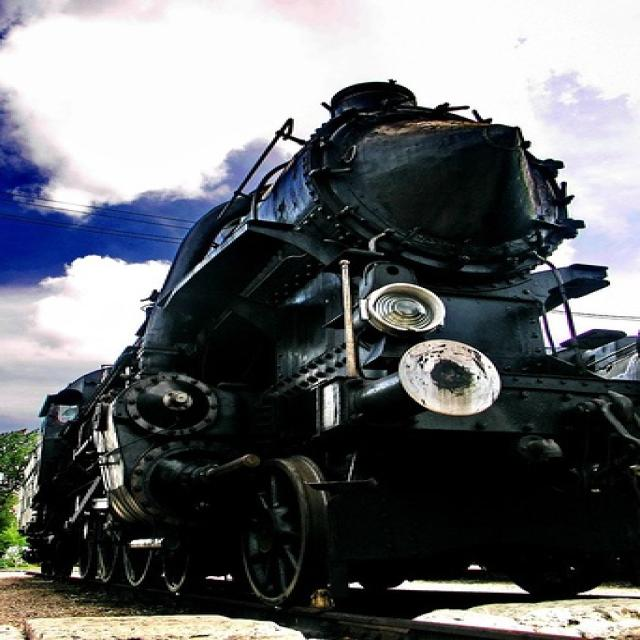train: (24, 76, 638, 602)
